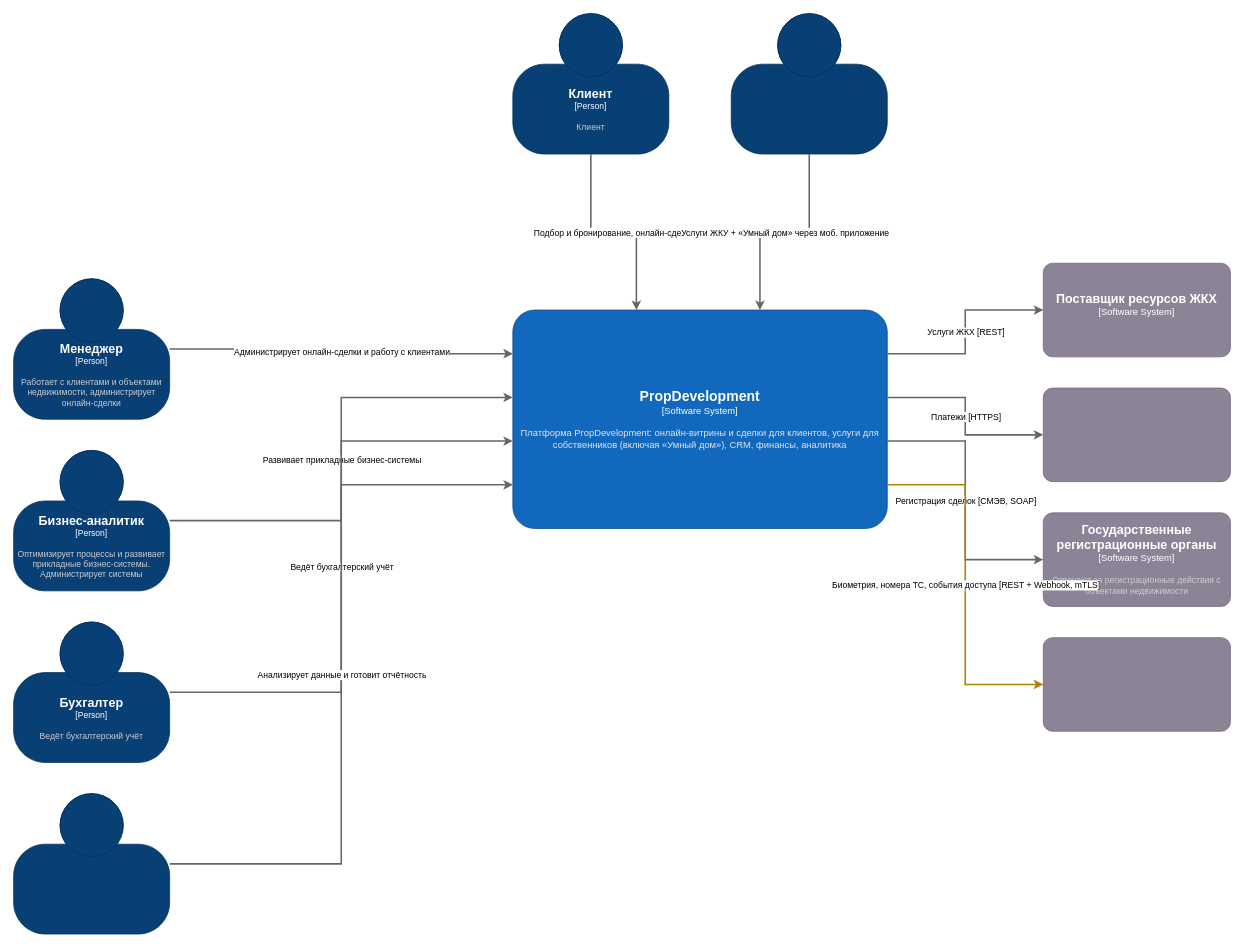
Some shapes in this 1244 by 948 pixel diagram are drawn without their labels. The box of each missing label's shape, as (x1, y1, x2, y2) in pixels:
Аналитик BI [Person] Анализирует данные и готовит отчётность: (13, 793, 170, 934)
Партнёр «Умный дом» [Software System] Облачная платформа партнёра: (1042, 637, 1230, 731)
Платёжная система [Software System] Провайдер онлайн-платежей: (1042, 387, 1230, 482)
Собственник [Person] Клиент: (730, 13, 887, 154)
